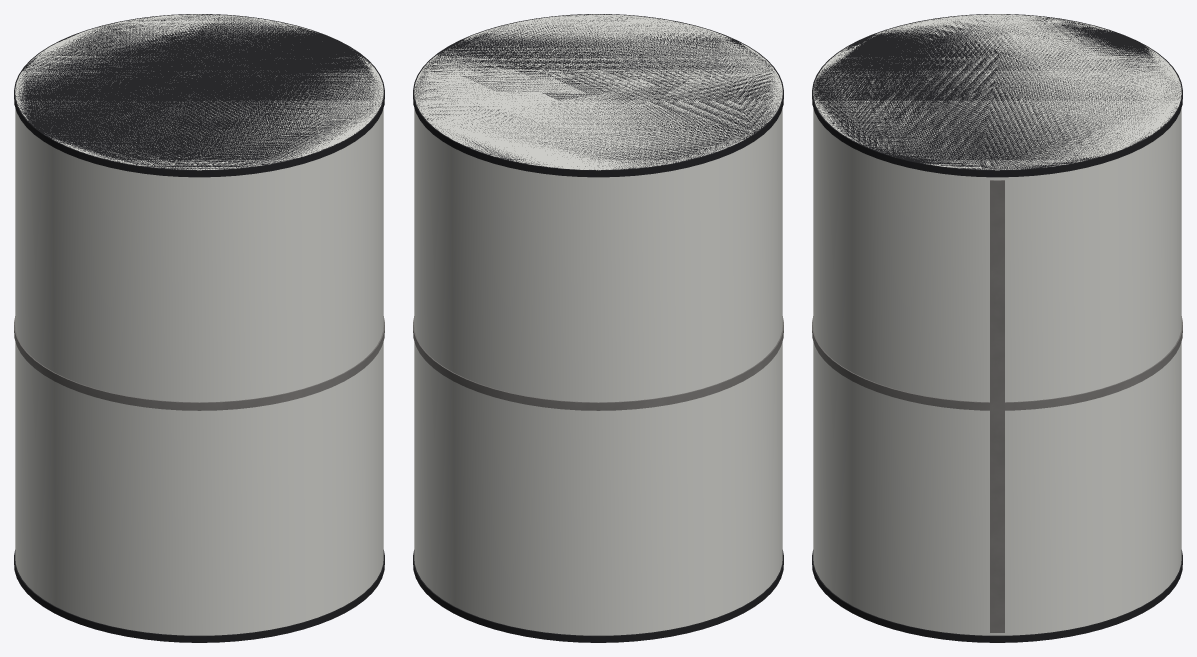
Rendered from tank13_tank_length_series_l_half.glb.
The picture shows the model from 3 angles, left to right: view 1: azimuth 30°, elevation 25°; view 2: azimuth 150°, elevation 25°; view 3: azimuth 270°, elevation 25°; orthographic projection.
Parts seen in each view (by area): view 1: tank, stack_flanges, ring_frames; view 2: tank, stack_flanges, ring_frames; view 3: tank, stack_flanges, feedline, ring_frames.
Boxes of the visible parts, <box> form: tank: <box>15,14,383,635</box>; stack_flanges: <box>14,14,384,642</box>; ring_frames: <box>14,316,384,410</box>; tank: <box>414,14,782,635</box>; stack_flanges: <box>413,14,783,642</box>; ring_frames: <box>413,316,783,410</box>; tank: <box>813,14,1181,635</box>; stack_flanges: <box>812,14,1182,642</box>; feedline: <box>990,180,1004,632</box>; ring_frames: <box>812,316,1182,410</box>.
Bounding box in the file's own units: 3.77 × 5.3 × 3.77.
Materials: 3 (1 with a texture image).
